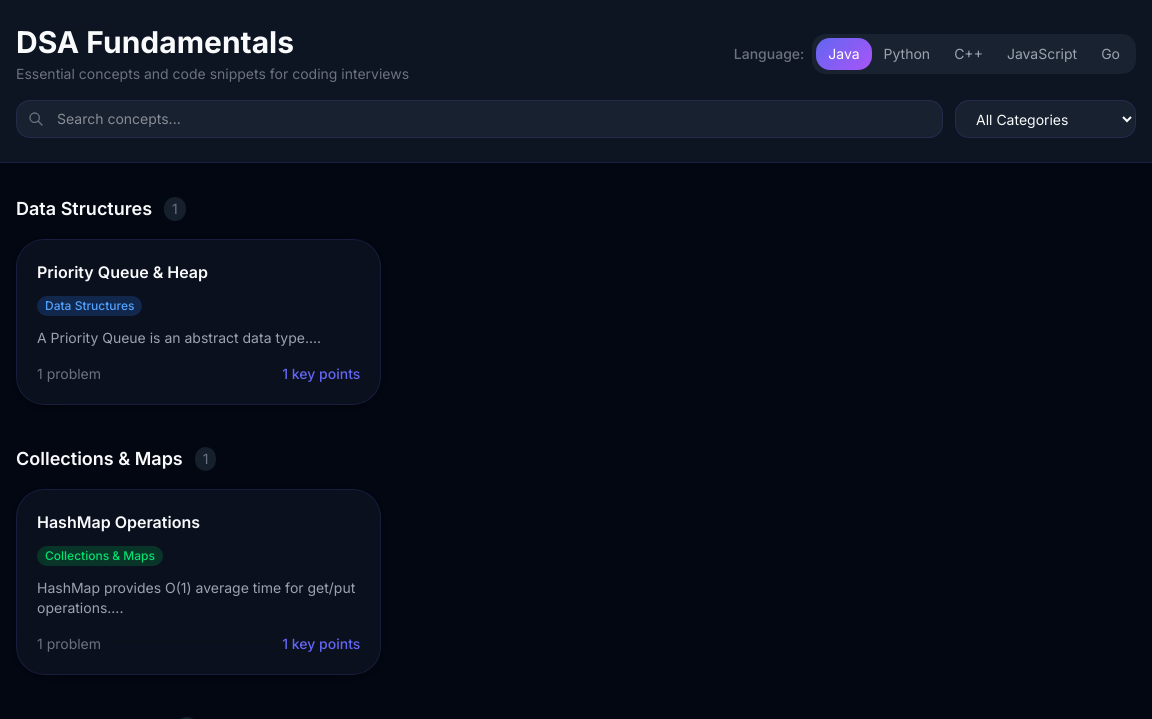
Test: DSAFundamentalsClient › clears filters when Clear filters button is clicked
Type "xyz123nonexistent" into the field with placeholder "Search concepts...". click: (480, 119)
box: [16, 100, 943, 138]
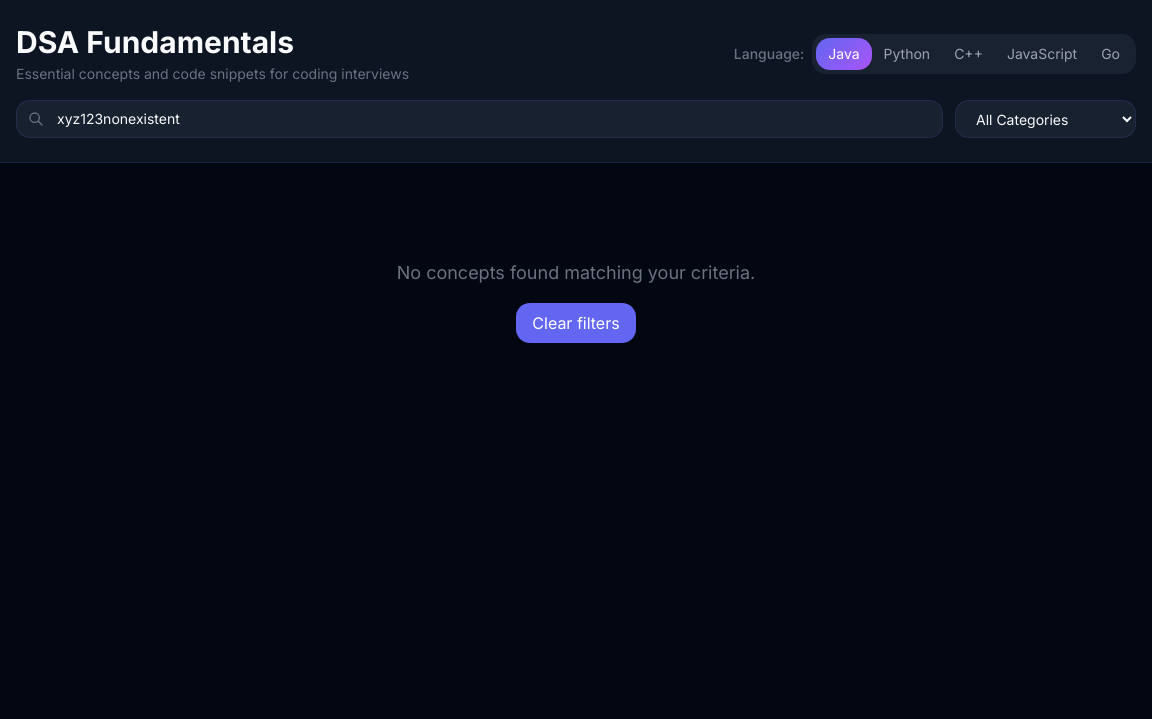
Click the button "Clear filters". click: (576, 323)
box: [516, 303, 636, 343]
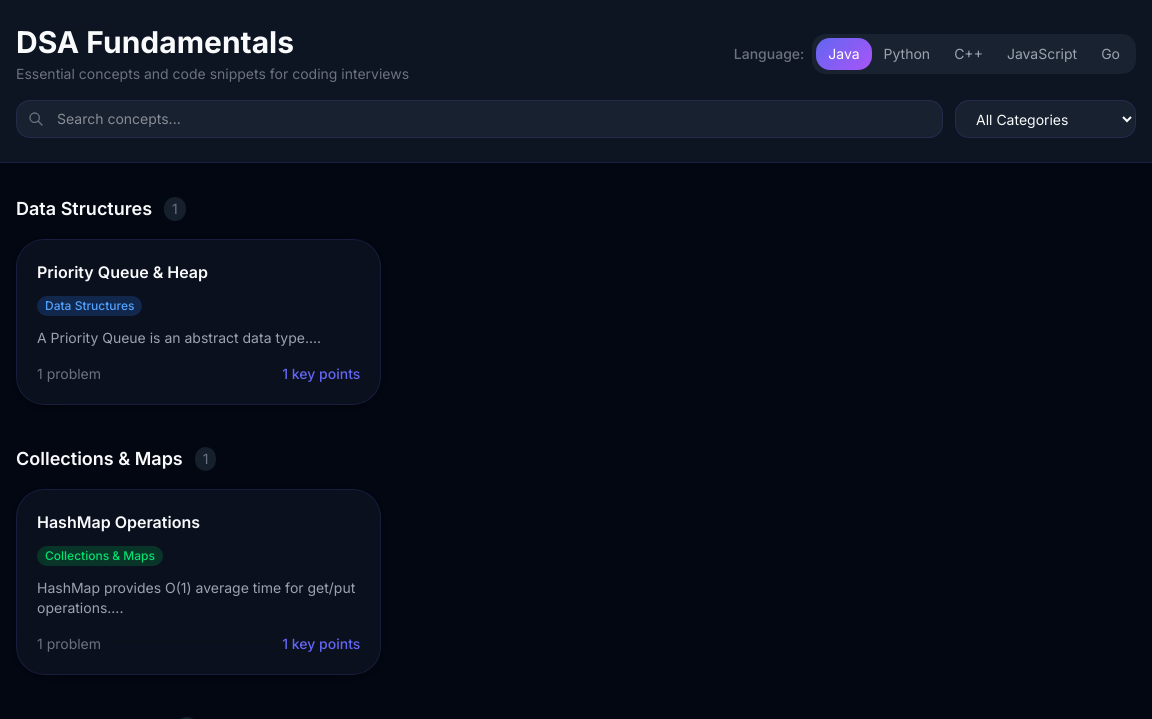
Expected: the heading "Priority Queue & Heap" is shown, [37, 260, 208, 284]
Expected: the heading "HashMap Operations" is shown, [37, 510, 200, 534]
